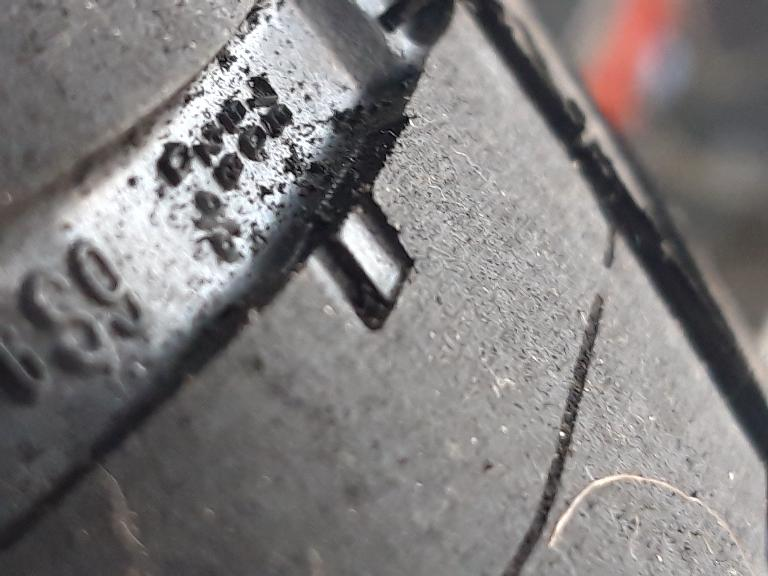temoin:25: (264, 177, 430, 346)
